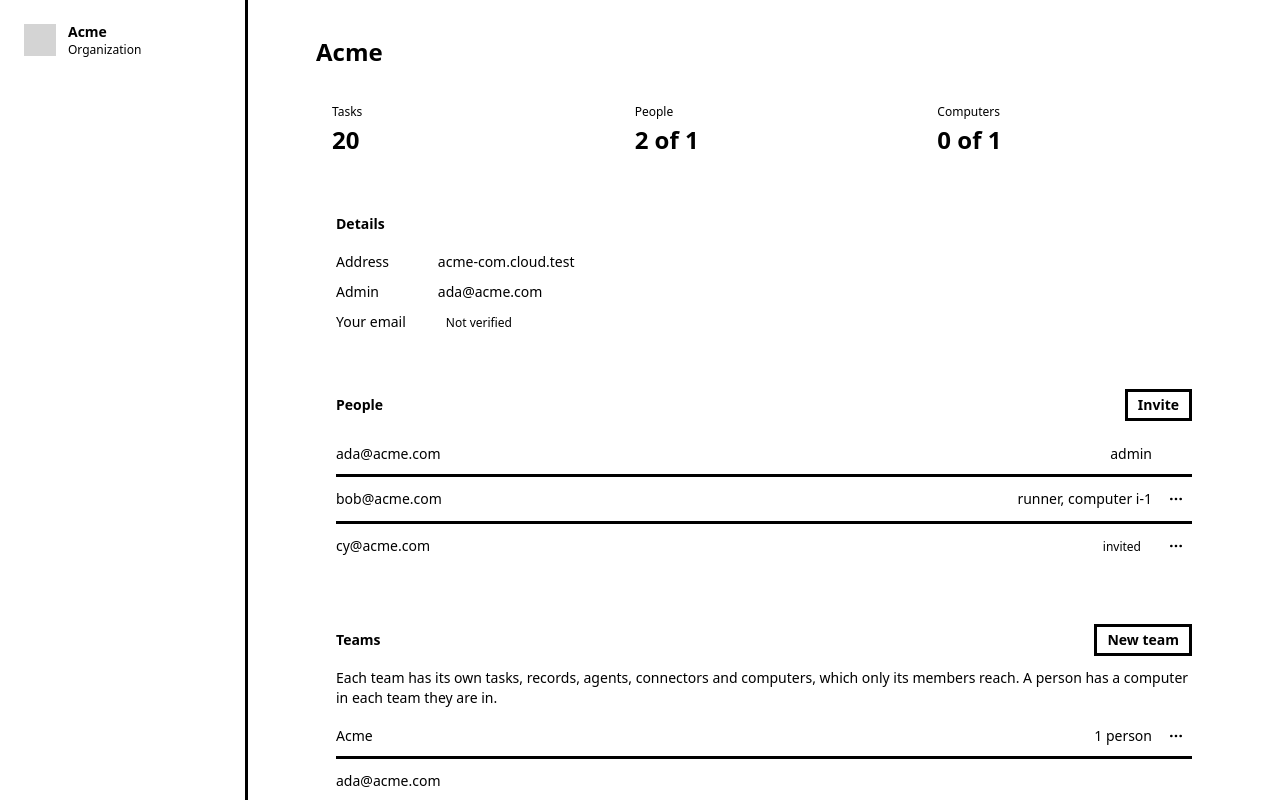
Test: an organization's page › lets an admin make a team, and rename and fill one from its menu
Expected: the button with test id "make-team" reads "New team", [1094, 624, 1192, 656]
Click the button named "More for Acme" at (1176, 736), box [1160, 720, 1192, 752]
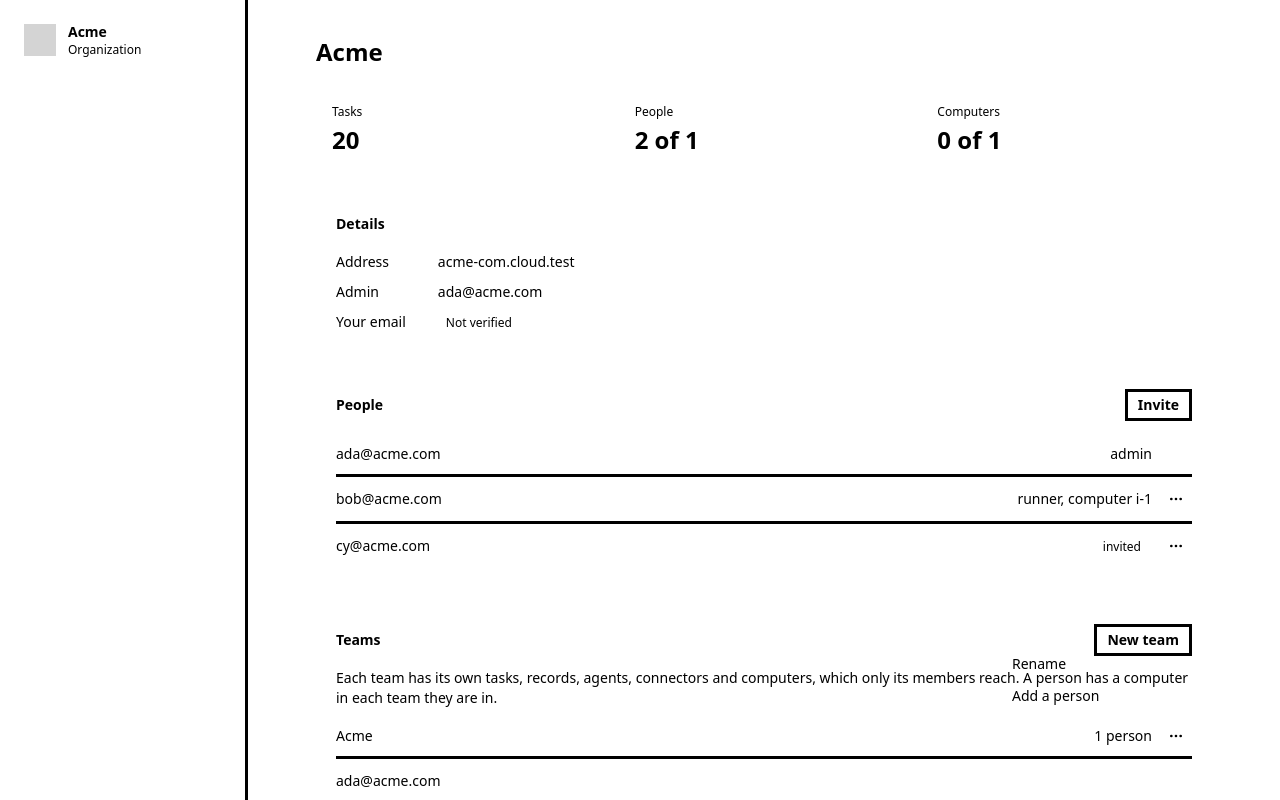
Result: the menu items read "Rename", "Add a person", in this order at [1012, 654, 1066, 673]; [1012, 686, 1099, 705]
